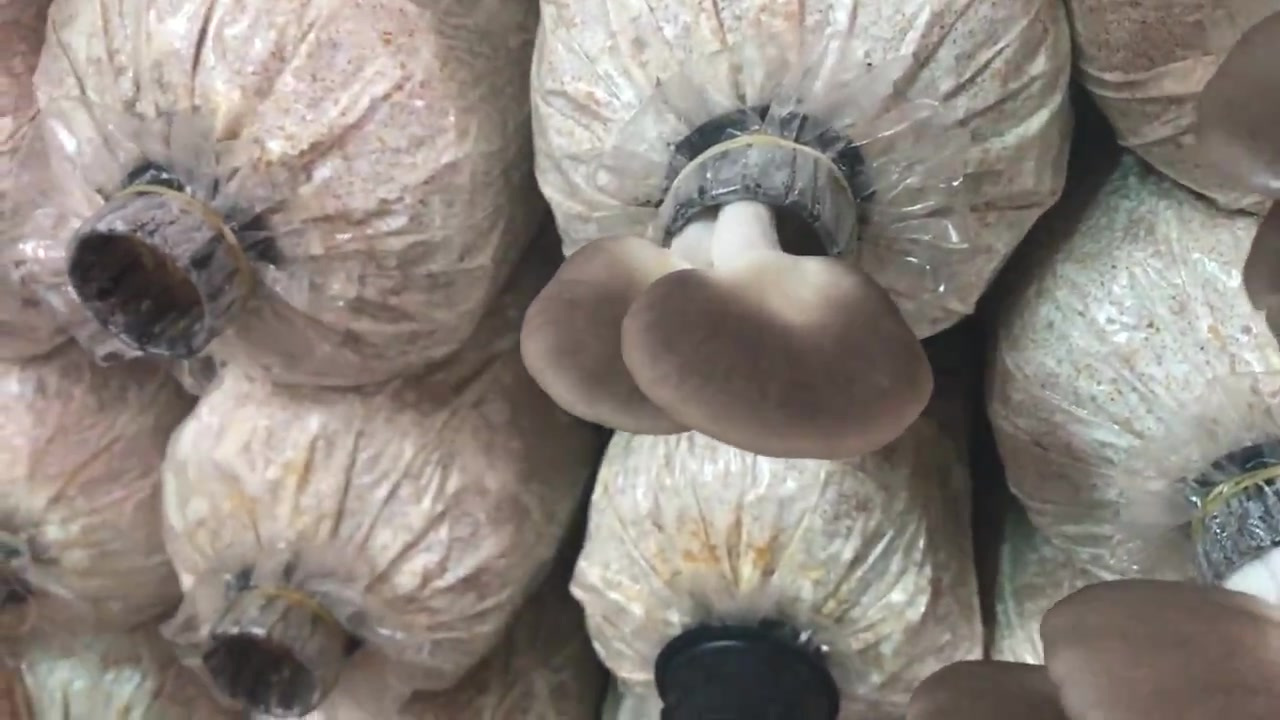nam: (521, 118, 936, 462), (902, 466, 1280, 718)
